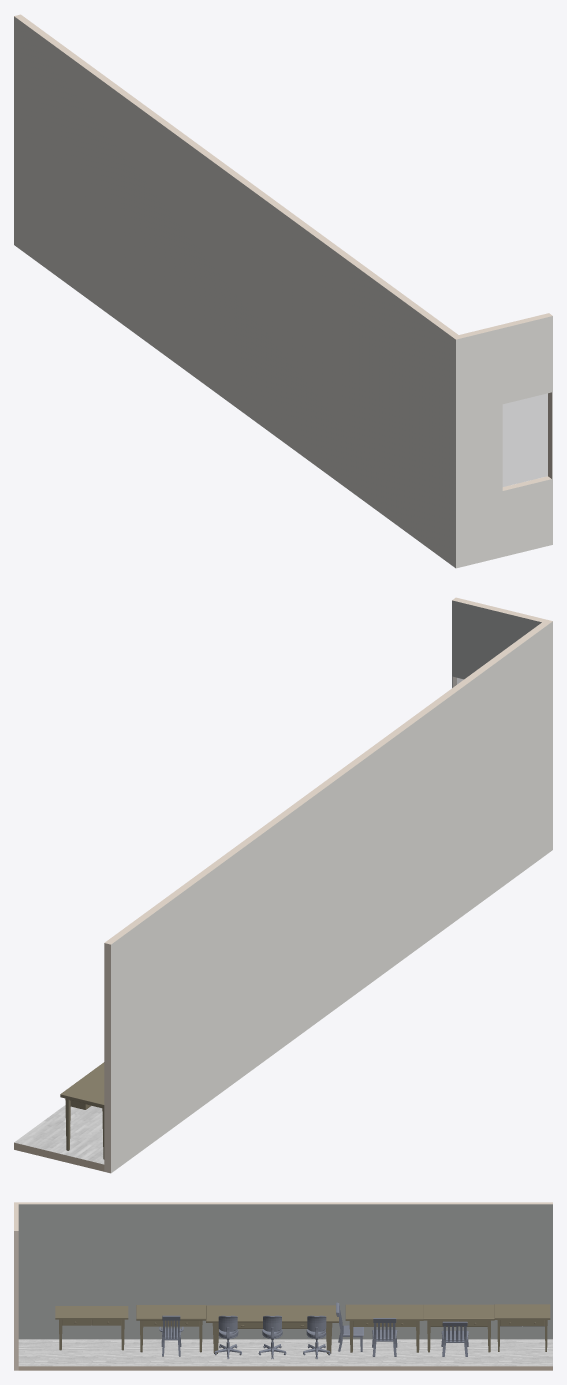
The picture shows the model from 3 angles, top to bottom: view 1: azimuth 30°, elevation 25°; view 2: azimuth 150°, elevation 25°; view 3: azimuth 270°, elevation 25°; orthographic projection. The views are drawn at different scales.
Parts seen in each view (by area): view 1: wall_0 (×2), wall_1, window_0 (×2); view 2: wall_0 (×3), wall_1, floor_Dining Room_0 (×2), table4; view 3: wall_0 (×2), floor_Dining Room_0 (×2), table2, table5, table1, table3, table0, table4, wall_1, chair1, chair2, chair3 (+4 smaller).
Part boxes in pixels (x1,y1,x2,y2): wall_0 (×2): (14,14,458,568); wall_1: (456,316,552,568); window_0 (×2): (503,393,547,486); wall_0 (×3): (104,621,552,1173); wall_1: (452,600,541,687); floor_Dining Room_0 (×2): (14,1105,104,1171); table4: (60,1062,104,1159); wall_0 (×2): (15,1202,552,1339); floor_Dining Room_0 (×2): (18,1339,552,1370); table2: (206,1305,338,1353); table5: (345,1304,423,1352); table1: (423,1304,494,1352); table3: (55,1306,128,1350); table0: (136,1305,205,1352); table4: (494,1304,550,1351); wall_1: (14,1231,18,1370); chair1: (303,1315,330,1358); chair2: (441,1321,468,1356); chair3: (214,1315,241,1358).
Size of the model in its own units: 1.42 by 3.19 by 11.16.
Materials: 8 (1 with a texture image).
